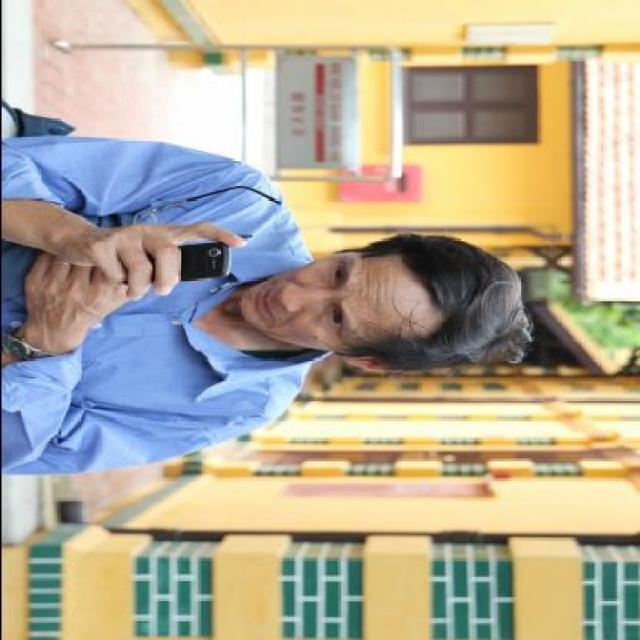phone: (119, 240, 233, 286)
